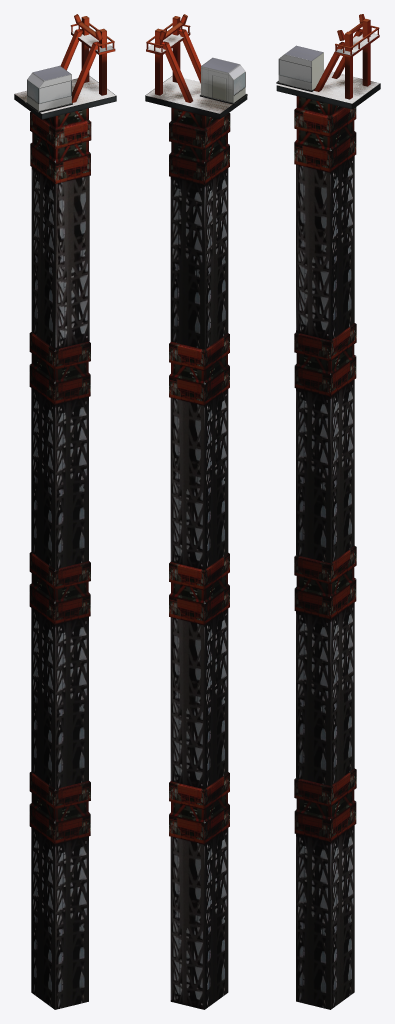
The model's file is kure-ndodai1f.obj.
The picture shows the model from 3 angles, left to right: view 1: azimuth 30°, elevation 25°; view 2: azimuth 150°, elevation 25°; view 3: azimuth 330°, elevation 25°; orthographic projection.
Bounding box in the file's own units: 13.1 × 158 × 8.33.
Materials: 1 (1 with a texture image).
